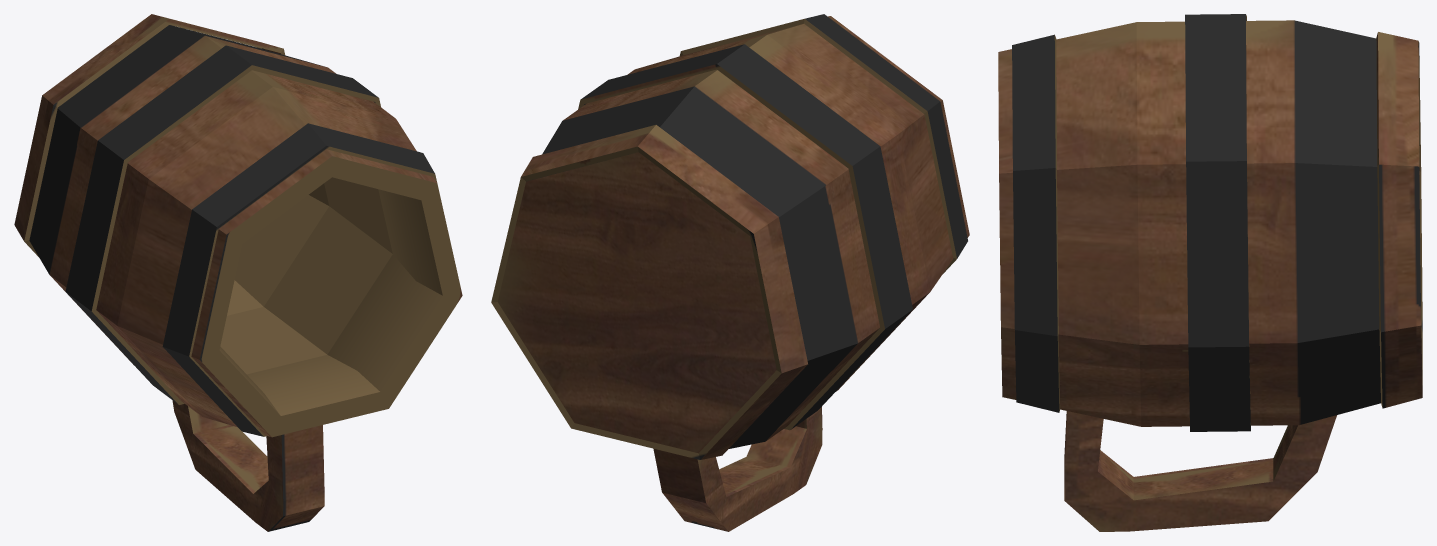
The model's file is mug.glb.
3 renders of one model, left to right at view 1: azimuth 30°, elevation 25°; view 2: azimuth 150°, elevation 25°; view 3: azimuth 270°, elevation 25°, orthographic. The views are drawn at different scales.
Parts seen in each view (by area): view 1: mug; view 2: mug; view 3: mug.
Part boxes in pixels (x1,y1,x2,y2): mug: [14, 14, 462, 531]; mug: [491, 14, 969, 531]; mug: [998, 14, 1422, 531].
Bounding box in the file's own units: 0.1973 × 0.2582 × 0.1962.
Materials: 1 (1 with a texture image).
